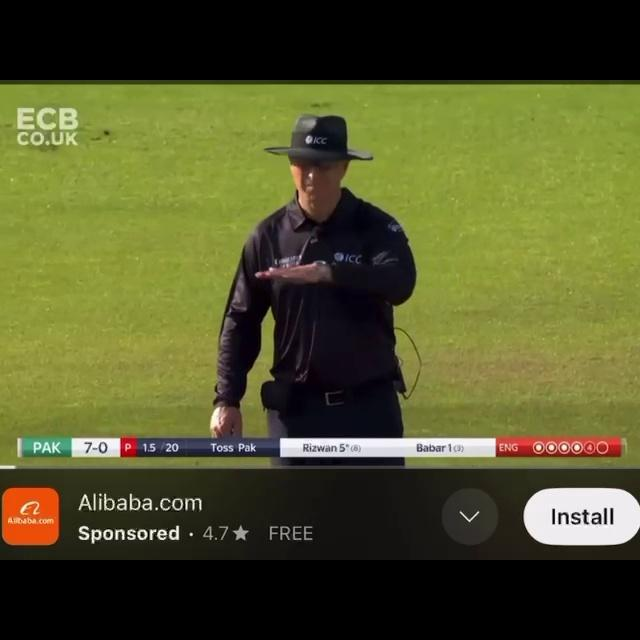umpire: (178, 102, 472, 432)
